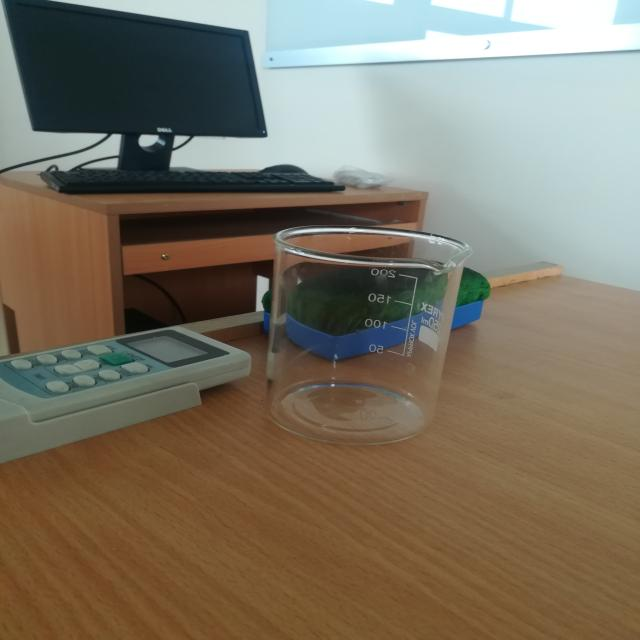Beaker: (233, 192, 502, 474)
